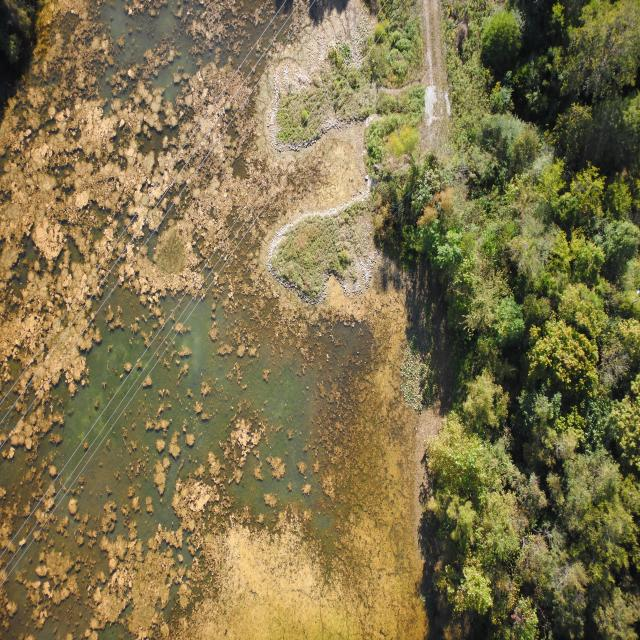Area of Interest: (382, 12, 636, 623)
